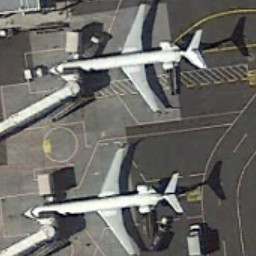Airplane: (45, 1, 221, 122), (20, 139, 187, 256)
